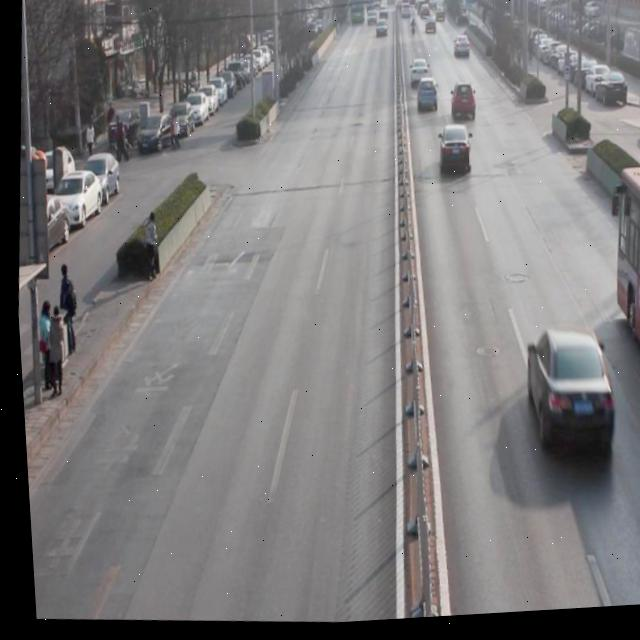car: (515, 326, 619, 472), (432, 125, 473, 184), (446, 84, 477, 129), (413, 78, 438, 119)
van: (596, 169, 640, 443)
